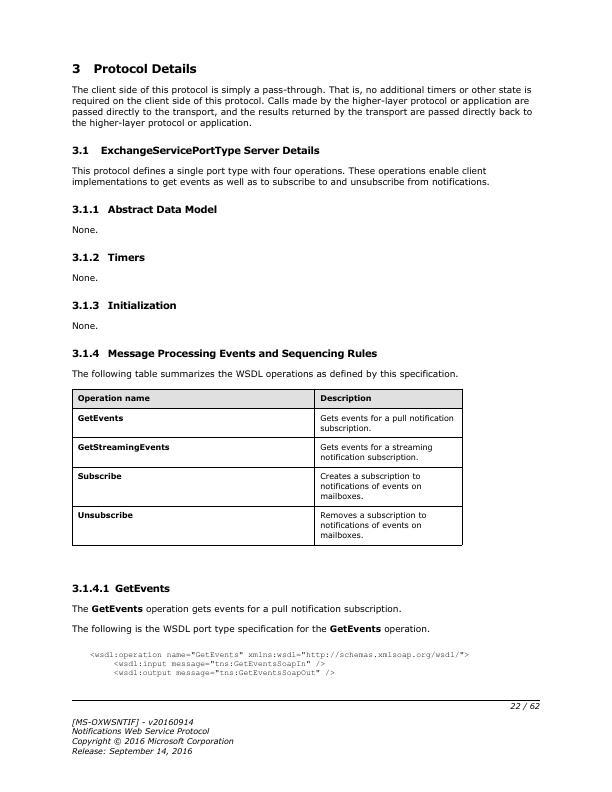table: (68, 384, 466, 549)
text: (66, 83, 539, 130), (70, 164, 497, 192), (83, 648, 476, 677), (67, 712, 240, 758), (67, 343, 386, 361), (66, 621, 434, 636), (67, 601, 403, 616), (70, 366, 462, 378), (71, 142, 324, 159), (68, 200, 224, 218), (68, 59, 201, 74), (66, 579, 173, 596), (70, 298, 179, 313), (65, 250, 149, 263), (66, 271, 106, 286), (66, 320, 102, 335), (66, 222, 98, 237)
